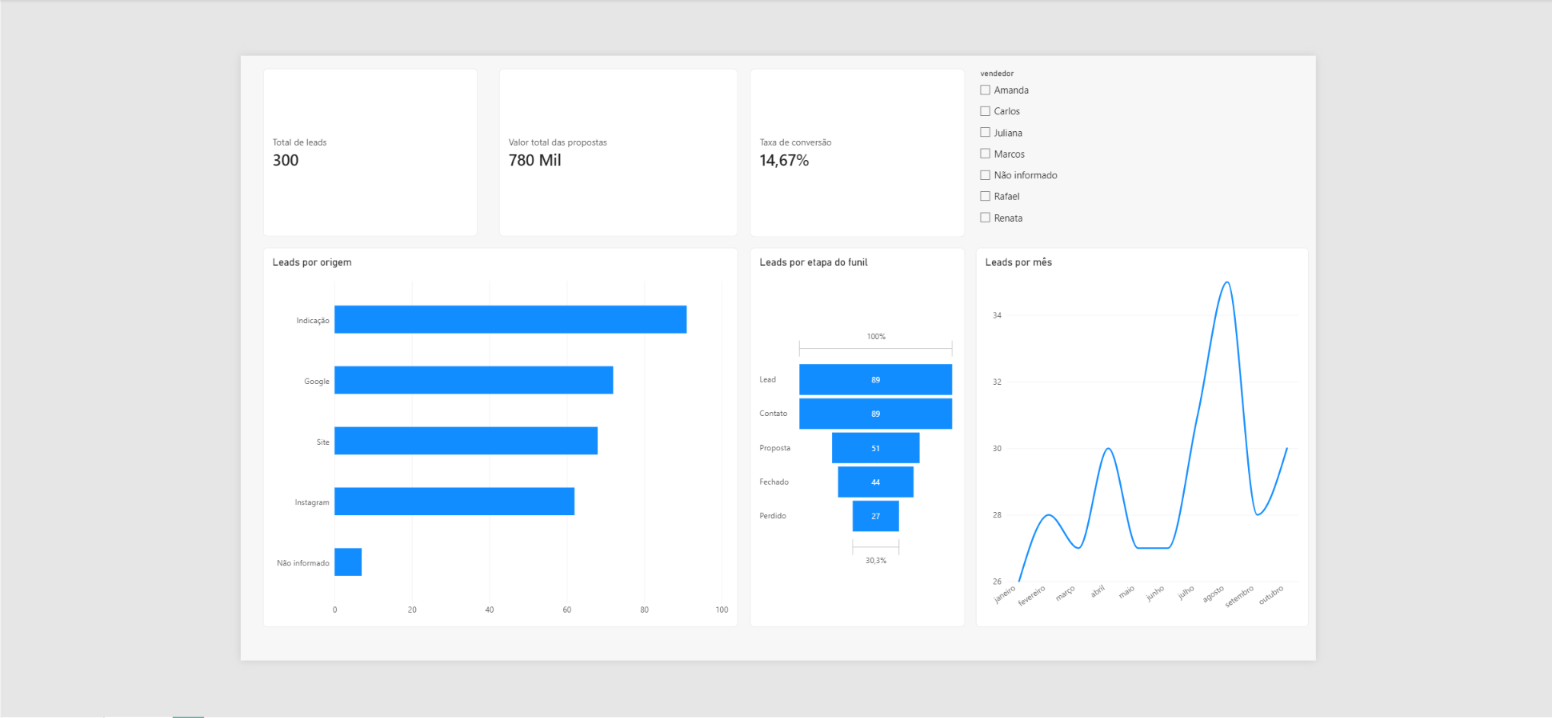

The dashboard page shown, as its layout file describes it:
{"tool":"powerbi","page":{"name":"Página 1","canvas":[1920,1080],"ordinal":0},"visuals":[{"type":"cardVisual","fields":{"Data":["Count(Dados tratados.id)"]},"box":[39.4,23.1,383.5,300.5],"z":0},{"type":"cardVisual","fields":{"Data":["Sum(Dados tratados.valor_proposta)"]},"box":[461.1,23.3,426.8,300.5],"z":1000},{"type":"barChart","title":"Leads por origem","fields":{"Category":["Dados tratados.origem"],"Y":["Count(Dados tratados.id)"]},"box":[39.8,343.1,848,677.9],"z":2000},{"type":"funnel","title":"Leads por etapa do funil","fields":{"Category":["Dados tratados.etapa_funil"],"Y":["Count(Dados tratados.id)"]},"box":[909.8,343.1,382.9,677.9],"z":3000},{"type":"lineChart","title":"Leads por mês","fields":{"Category":["Dados tratados.data_entrada.Variação.Hierarquia de datas.Mês"],"Y":["Count(Dados tratados.id)"]},"box":[1313.2,343.1,594.2,677.9],"z":4000},{"type":"slicer","fields":{"Values":["Dados tratados.vendedor"]},"box":[1313.2,23.3,594.2,300.5],"z":5000},{"type":"cardVisual","fields":{"Data":["Dados tratados.Taxa de conversão"]},"box":[909.8,23.3,383,301],"z":5001}]}

Visuals, with their boxes on the page's 1920x1080 design canvas (x1, y1, x2, y2). These are canvas units, not pixel positions in the 1552x718 screenshot, which may show the page scaled, cropped or inside an application window:
cardVisual - Count(Dados tratados.id): (left=39, top=23, right=423, bottom=324)
cardVisual - Sum(Dados tratados.valor_proposta): (left=461, top=23, right=888, bottom=324)
"Leads por origem" barChart: (left=40, top=343, right=888, bottom=1021)
"Leads por etapa do funil" funnel: (left=910, top=343, right=1293, bottom=1021)
"Leads por mês" lineChart: (left=1313, top=343, right=1907, bottom=1021)
slicer - Dados tratados.vendedor: (left=1313, top=23, right=1907, bottom=324)
cardVisual - Dados tratados.Taxa de conversão: (left=910, top=23, right=1293, bottom=324)
